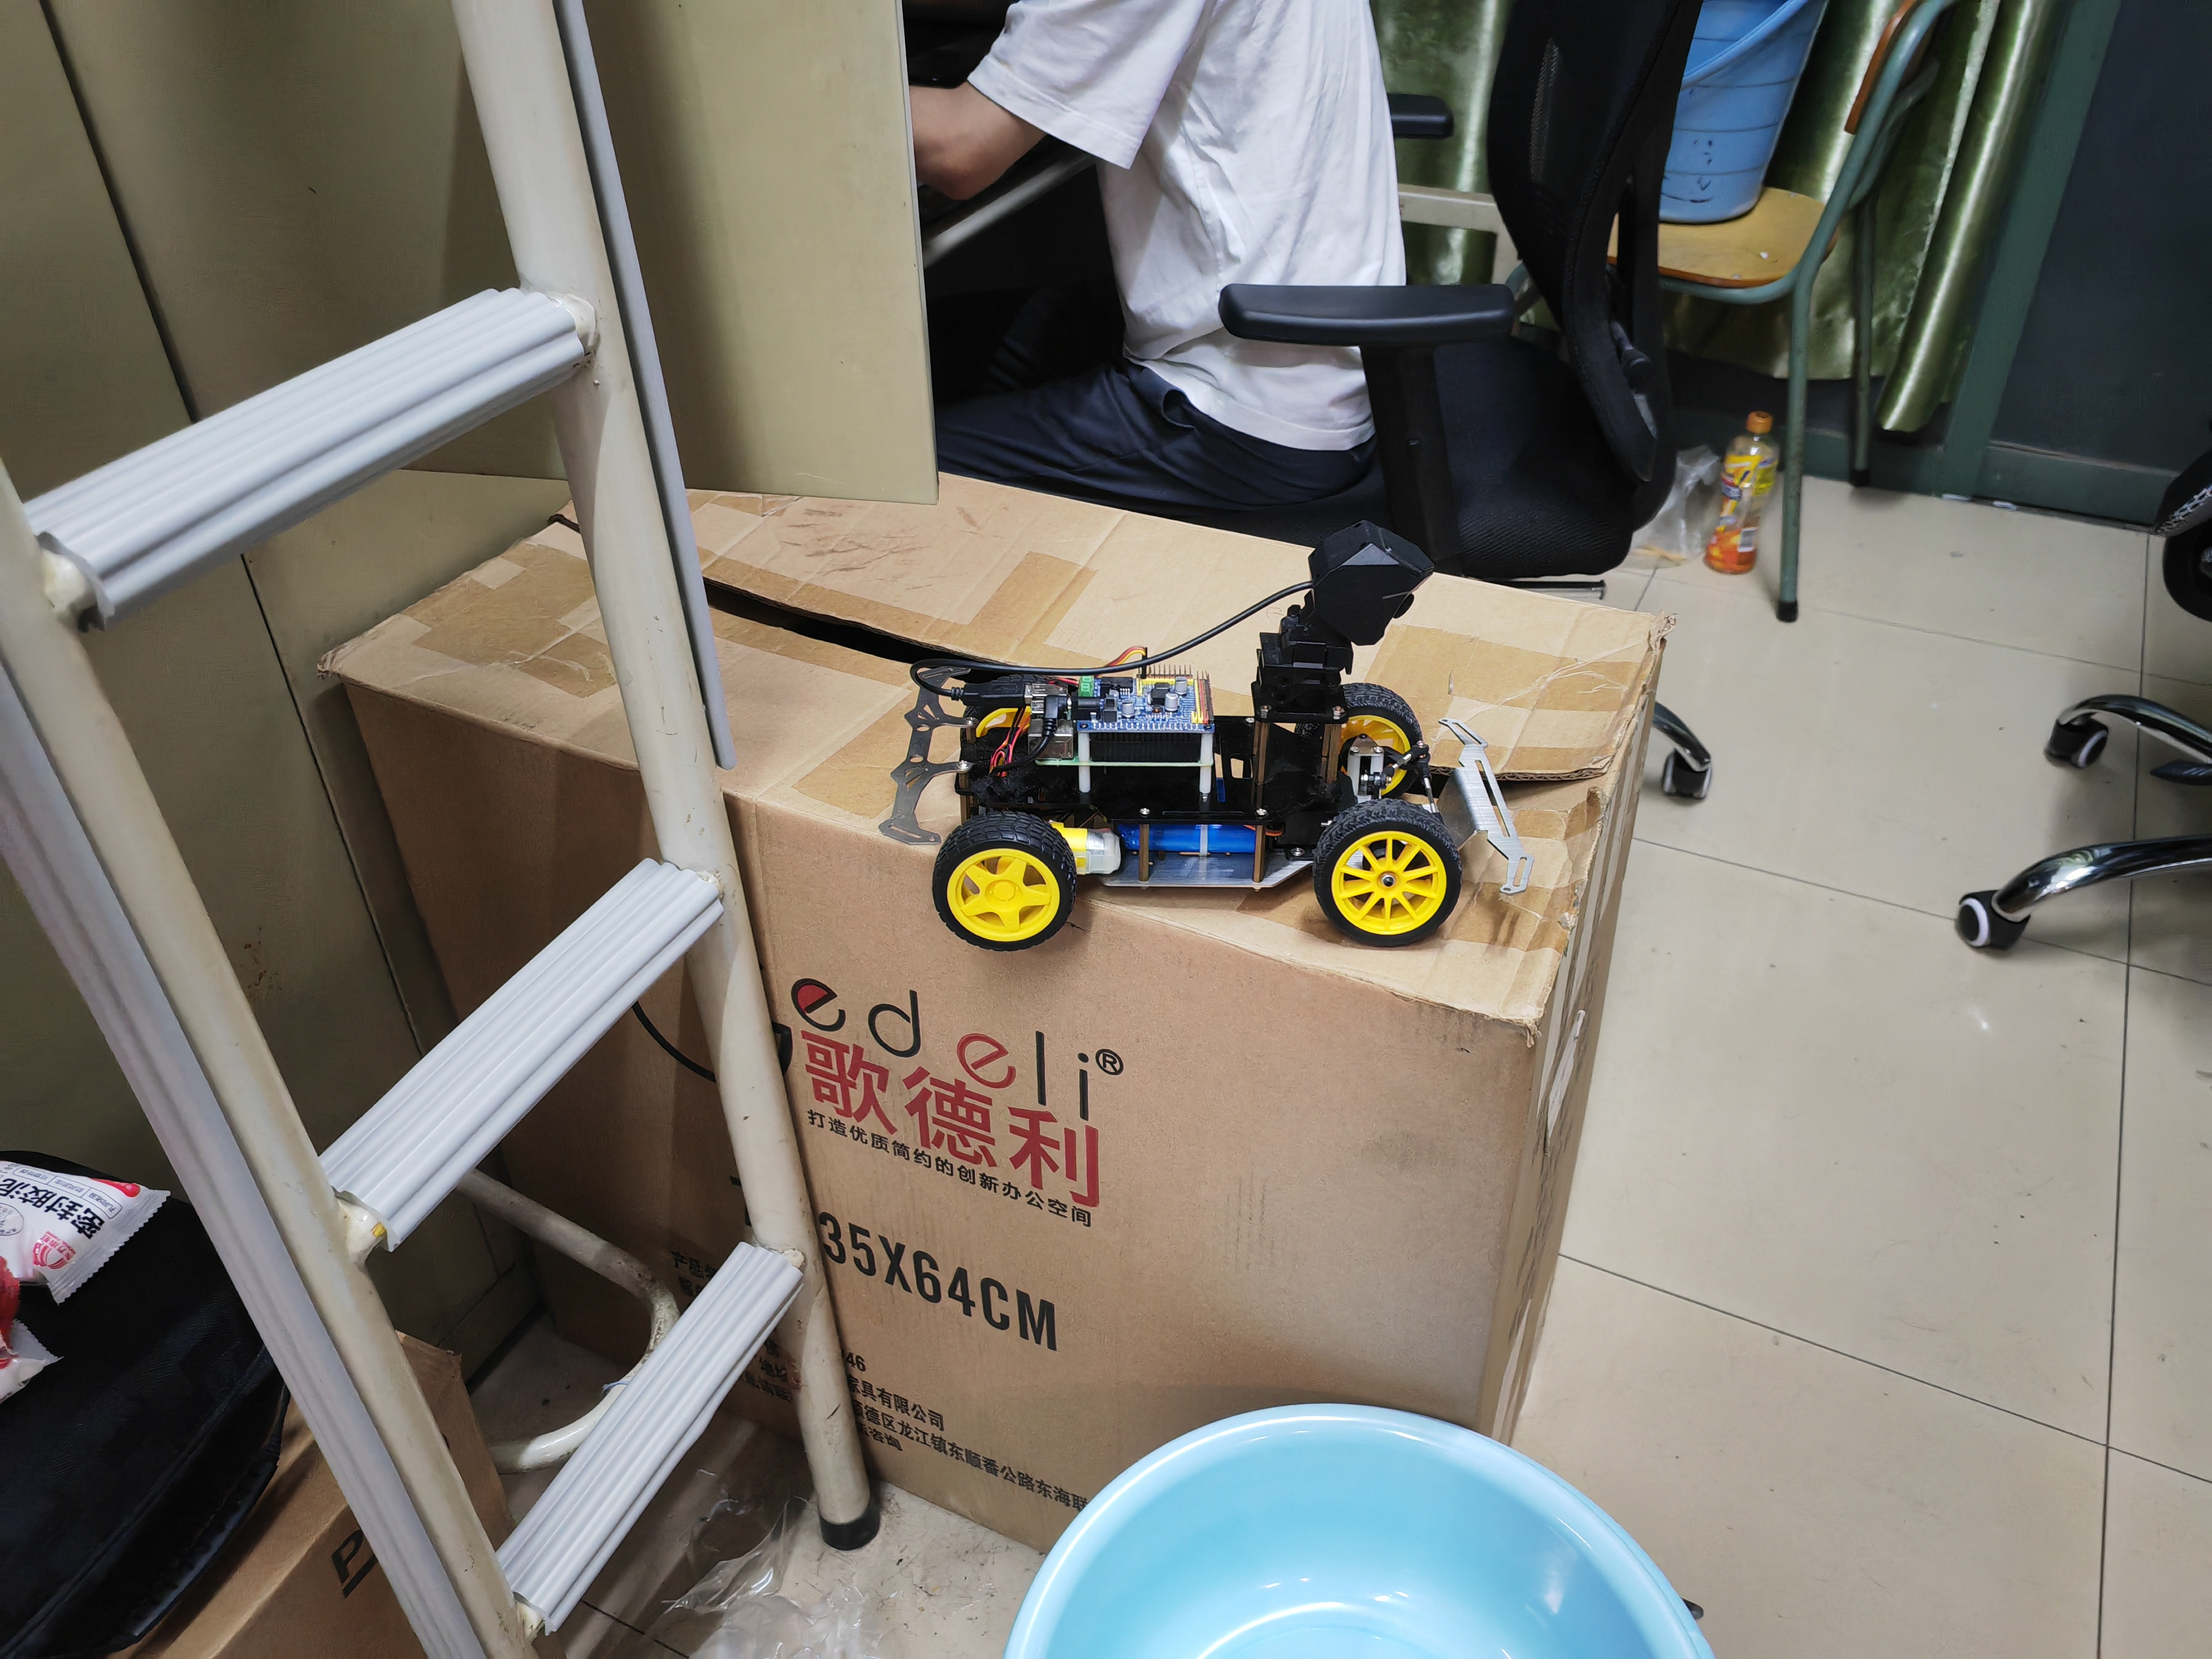car: (911, 507, 1510, 967)
